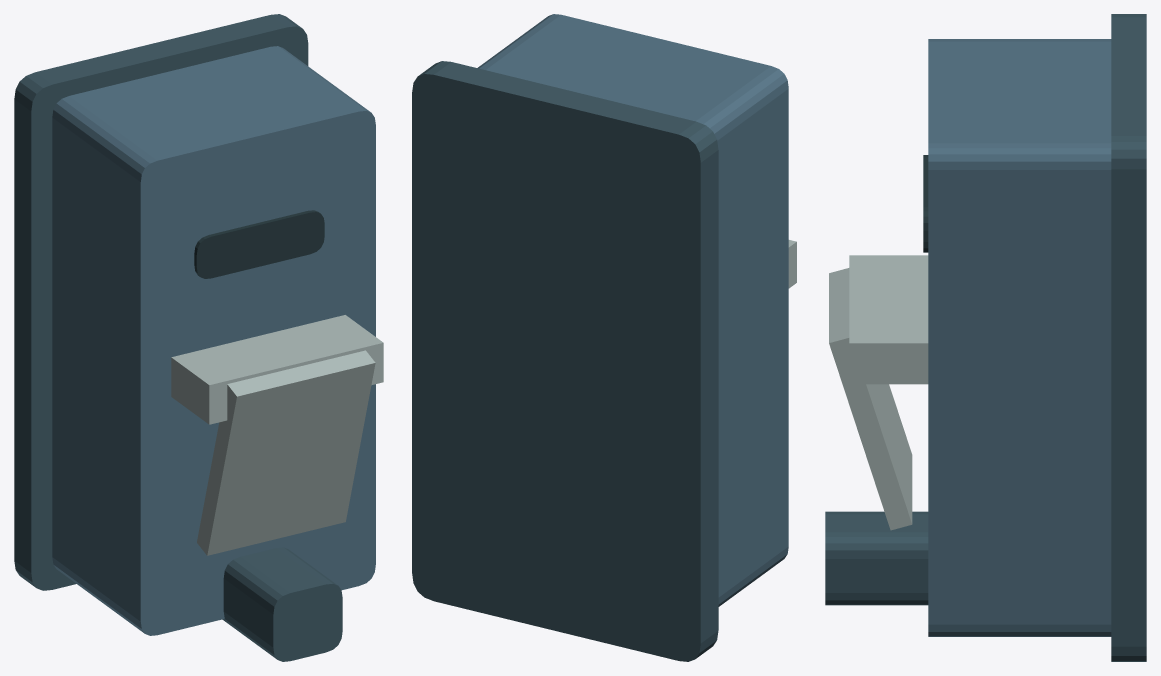
3 views of the same model, side by side, from view 1: azimuth 30°, elevation 25°; view 2: azimuth 150°, elevation 25°; view 3: azimuth 270°, elevation 25° (orthographic). The views are drawn at different scales.
Parts seen in each view (by area): view 1: dispenser-housing, dispenser-actuator, dispenser-wall-back, dispenser-outlet-manifold, dispenser-level-window; view 2: dispenser-wall-back, dispenser-housing; view 3: dispenser-housing, dispenser-wall-back, dispenser-actuator, dispenser-outlet-manifold, dispenser-level-window.
Boxes of the visible parts, <box> form: dispenser-housing: <box>52,46,375,635</box>; dispenser-actuator: <box>171,315,383,555</box>; dispenser-wall-back: <box>14,14,308,590</box>; dispenser-outlet-manifold: <box>222,547,342,661</box>; dispenser-level-window: <box>194,210,324,278</box>; dispenser-wall-back: <box>412,61,718,661</box>; dispenser-housing: <box>477,14,788,606</box>; dispenser-housing: <box>928,39,1111,636</box>; dispenser-wall-back: <box>1111,14,1146,661</box>; dispenser-actuator: <box>829,255,928,530</box>; dispenser-outlet-manifold: <box>825,511,928,605</box>; dispenser-level-window: <box>923,155,928,252</box>.
Size of the model in its own units: 0.132 by 0.23 by 0.128.
